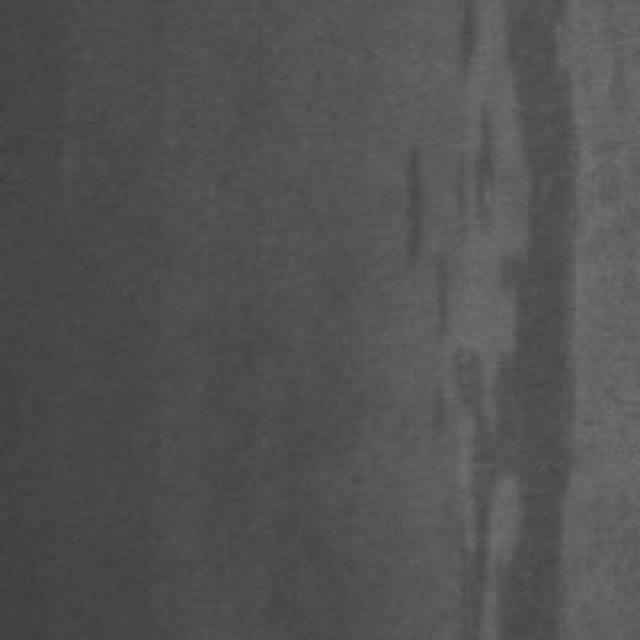inclusion: (429, 0, 576, 630)
